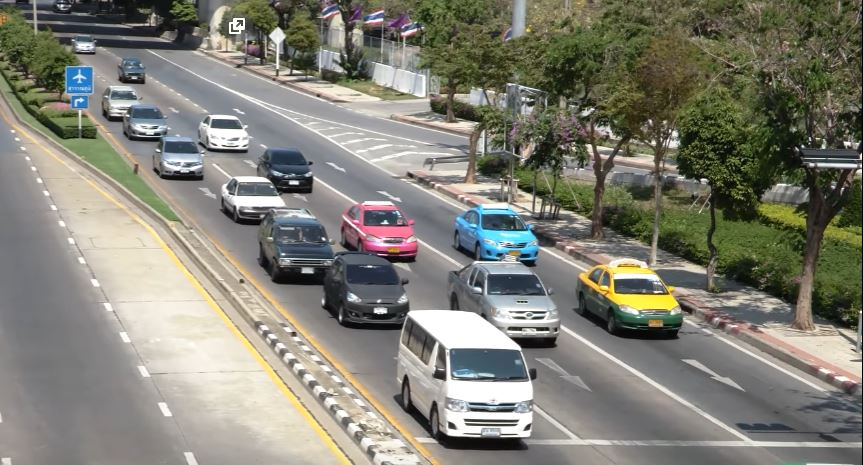Bus: (394, 310, 536, 446)
Car: (446, 258, 561, 344), (576, 259, 684, 340), (321, 254, 409, 328), (258, 207, 335, 282), (453, 202, 540, 268), (339, 201, 420, 262), (218, 175, 287, 223), (153, 137, 205, 182), (258, 147, 313, 189), (198, 113, 251, 153), (122, 102, 171, 143), (100, 84, 140, 120), (118, 59, 147, 85), (71, 33, 96, 55)
